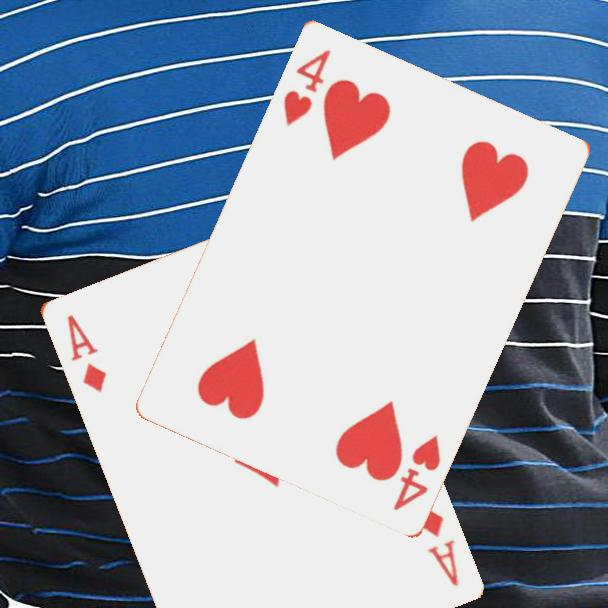d01: (63, 310, 109, 396), (416, 504, 461, 589)
h04: (280, 46, 335, 131), (390, 432, 444, 514)
